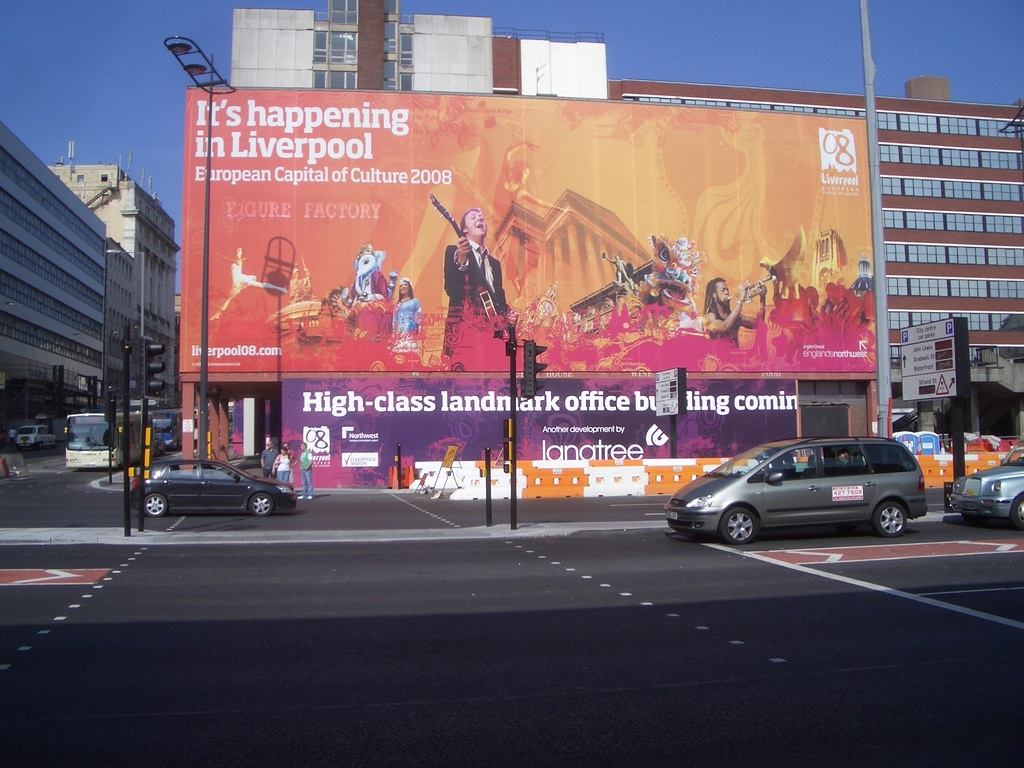Car: (657, 428, 938, 547), (127, 452, 297, 521), (945, 442, 1023, 530), (12, 423, 56, 449)
